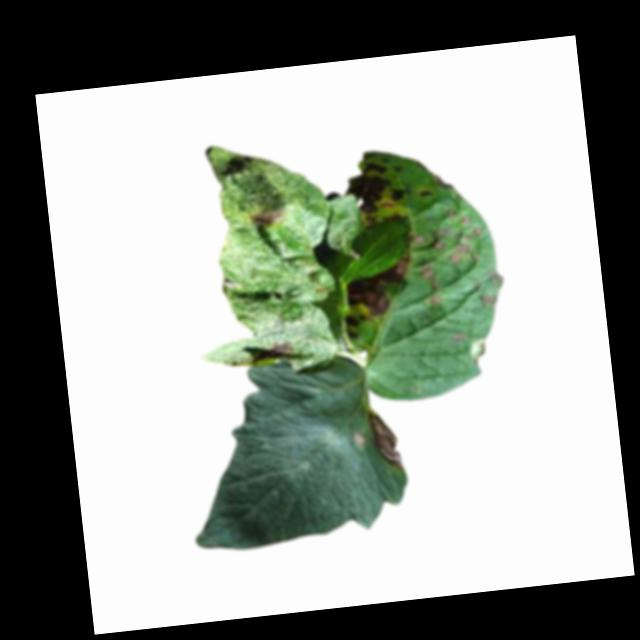Early_blight: (337, 255, 417, 332), (340, 159, 403, 217), (363, 408, 406, 473), (418, 255, 442, 307), (247, 206, 288, 229), (448, 241, 474, 266), (430, 226, 452, 249), (272, 342, 296, 359), (418, 188, 436, 202), (411, 232, 429, 245)
